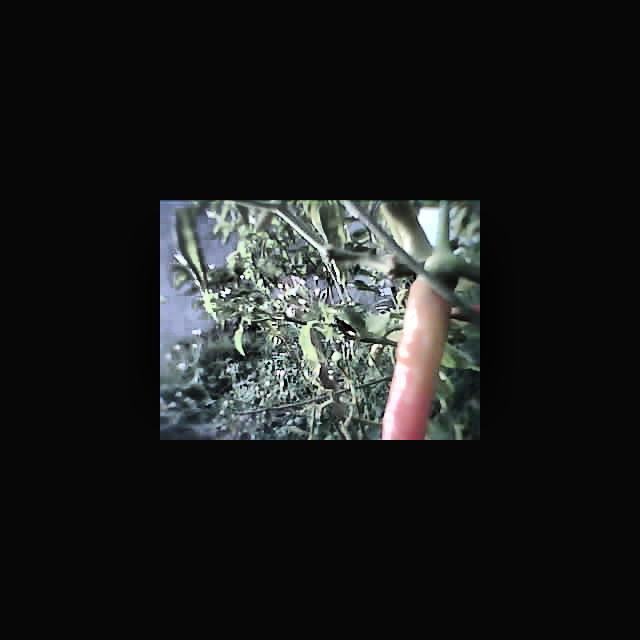Cabai: (390, 272, 435, 440)
